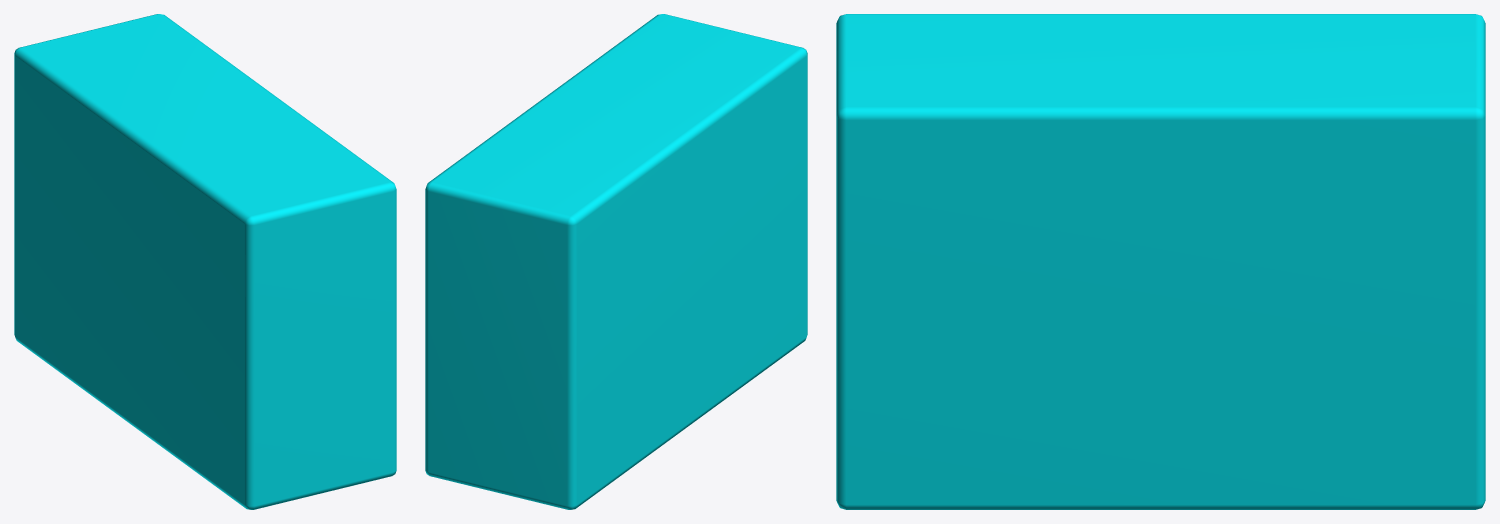
Rendered from brake_caliper_rear_rl.glb.
The picture shows the model from 3 angles, left to right: view 1: azimuth 30°, elevation 25°; view 2: azimuth 150°, elevation 25°; view 3: azimuth 270°, elevation 25°; orthographic projection. The views are drawn at different scales.
Parts seen in each view (by area): view 1: BRAKE_Caliper_Rear_RL; view 2: BRAKE_Caliper_Rear_RL; view 3: BRAKE_Caliper_Rear_RL.
Part boxes in pixels (bbox=[...]): BRAKE_Caliper_Rear_RL: bbox=[14, 14, 396, 509]; BRAKE_Caliper_Rear_RL: bbox=[425, 14, 807, 509]; BRAKE_Caliper_Rear_RL: bbox=[836, 14, 1485, 509].
Size of the model in its own units: 0.07 by 0.13 by 0.19.
